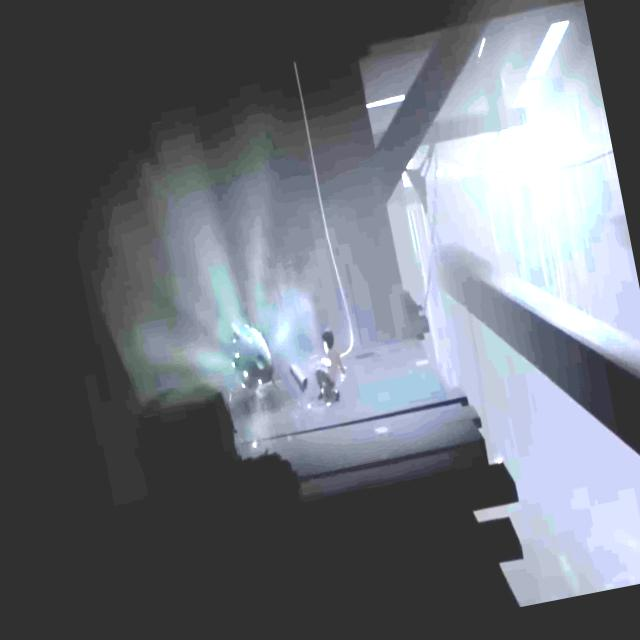boy: (292, 329, 346, 406)
